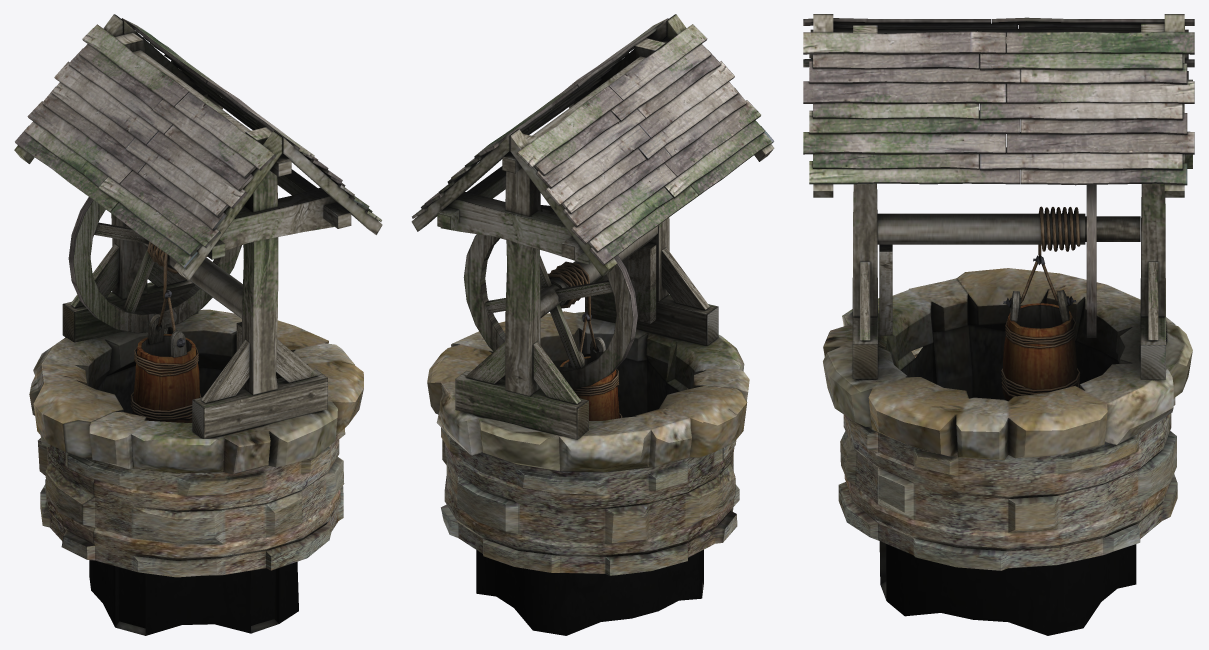
File: old_well_with_hanging_bucket.glb
3 views of the same model, side by side, from view 1: azimuth 30°, elevation 25°; view 2: azimuth 150°, elevation 25°; view 3: azimuth 270°, elevation 25° (orthographic). The views are drawn at different scales.
Visible parts, largest first — view 1: blinn4; view 2: blinn4; view 3: blinn4.
Boxes of the visible parts, x1,y1,x2,y2 form: blinn4: [14, 14, 382, 635]; blinn4: [411, 14, 774, 635]; blinn4: [803, 14, 1194, 635].
Size of the model in its own units: 717 by 1203 by 748.
1 material, 1 textured.
